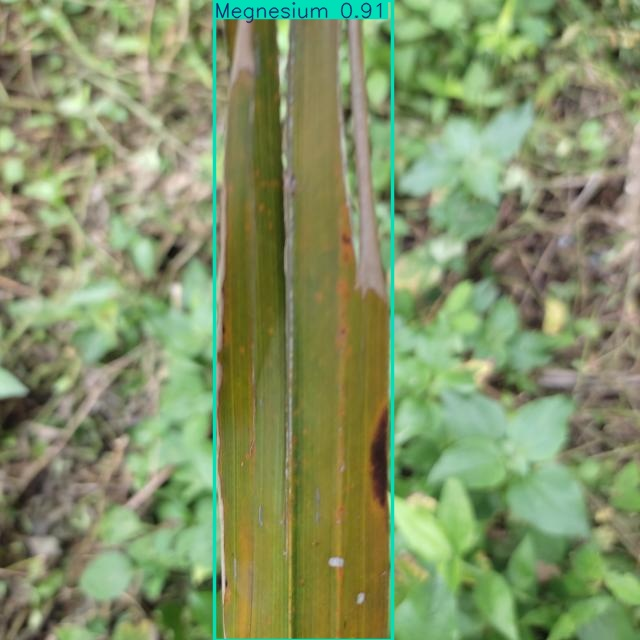Megnesium: (214, 0, 393, 640)
